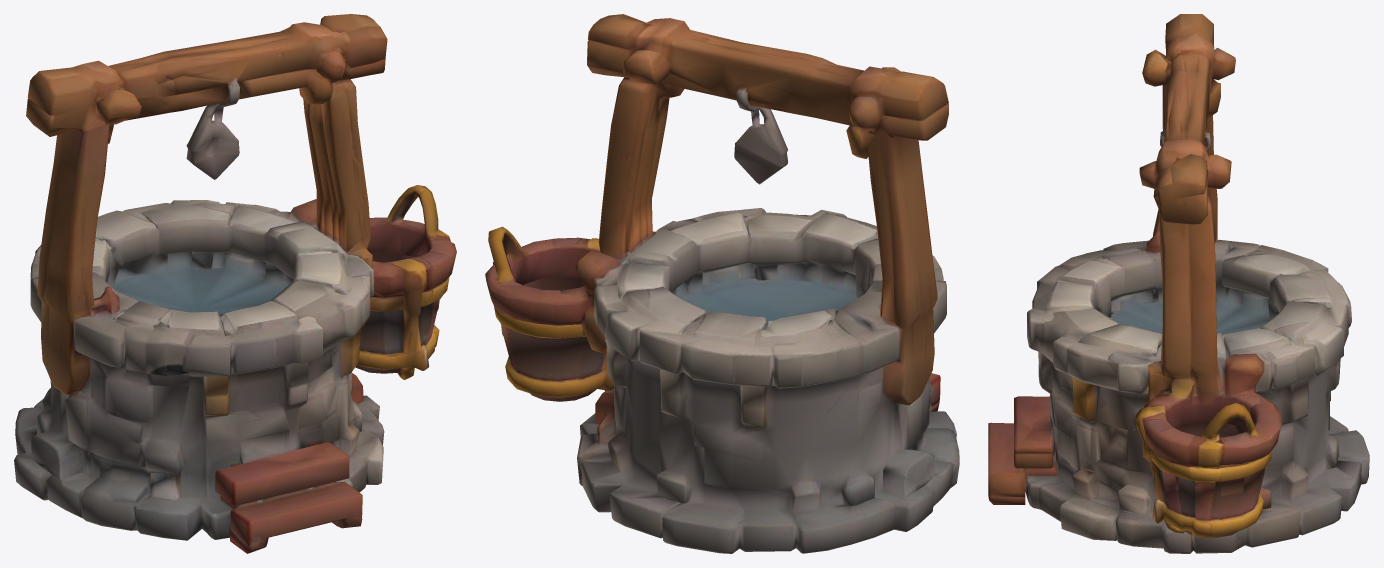
The model's file is poco_pedra.glb.
3 renders of one model, left to right at view 1: azimuth 30°, elevation 25°; view 2: azimuth 150°, elevation 25°; view 3: azimuth 270°, elevation 25°, orthographic. The views are drawn at different scales.
Parts seen in each view (by area): view 1: tripo_node_642aa9a0-0b8b-4c5b-acc3-d7ebce1384cf; view 2: tripo_node_642aa9a0-0b8b-4c5b-acc3-d7ebce1384cf; view 3: tripo_node_642aa9a0-0b8b-4c5b-acc3-d7ebce1384cf.
Part boxes in pixels (x1,y1,x2,y2): tripo_node_642aa9a0-0b8b-4c5b-acc3-d7ebce1384cf: [14, 14, 456, 553]; tripo_node_642aa9a0-0b8b-4c5b-acc3-d7ebce1384cf: [485, 14, 959, 553]; tripo_node_642aa9a0-0b8b-4c5b-acc3-d7ebce1384cf: [988, 14, 1369, 553].
Bounding box in the file's own units: 0.9778 × 0.9471 × 0.8247.
1 material, 1 textured.
